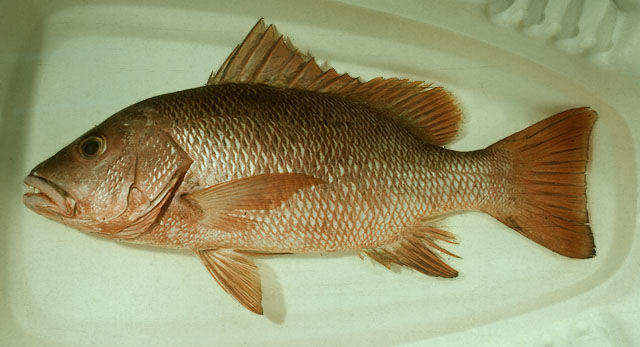fish: (22, 17, 597, 316)
